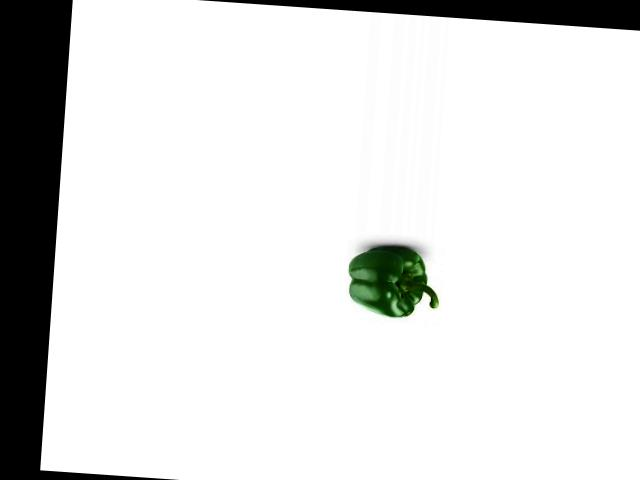bell_pepper: (343, 244, 444, 321)
